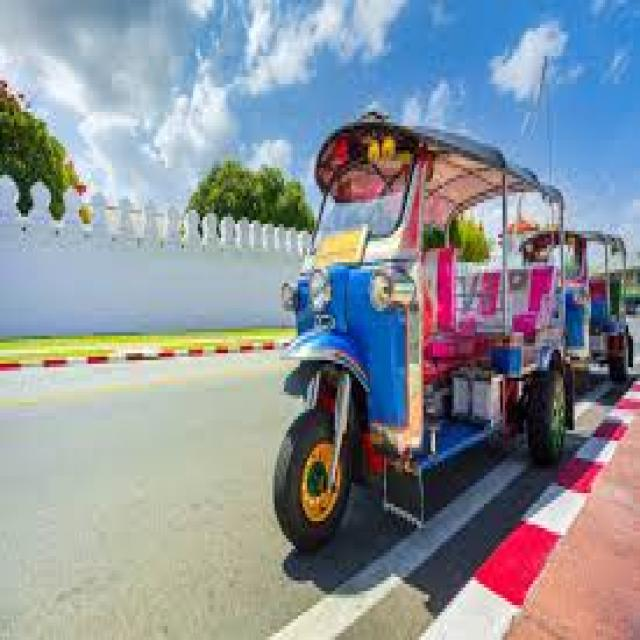tuktuk: (219, 10, 640, 595)
